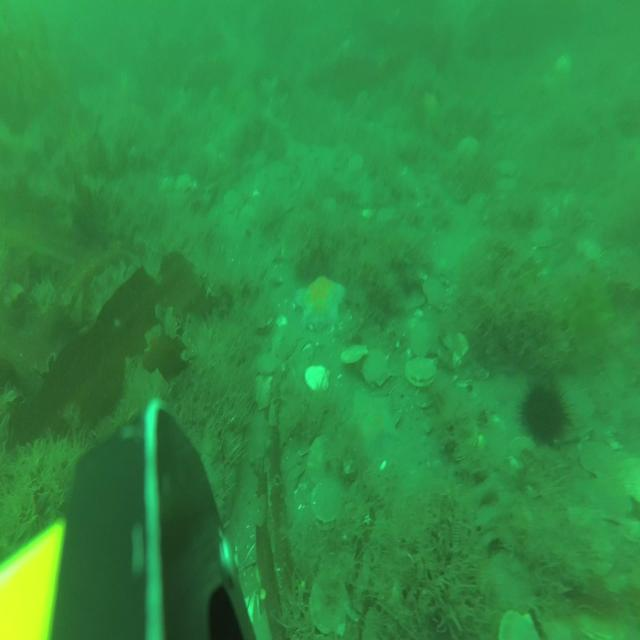echinus: (518, 369, 576, 452)
scallop: (308, 567, 353, 640), (309, 474, 345, 534), (579, 432, 623, 480), (498, 602, 543, 640), (306, 430, 334, 487), (410, 313, 442, 358), (403, 354, 440, 389), (362, 347, 392, 389), (272, 322, 298, 362), (252, 372, 277, 411), (303, 362, 332, 395), (422, 274, 446, 312), (339, 342, 371, 366), (529, 222, 557, 249), (223, 186, 247, 217), (494, 153, 519, 180), (256, 350, 280, 378), (348, 148, 366, 176), (174, 170, 194, 194)
starfish: (348, 386, 404, 463), (294, 275, 346, 333)
